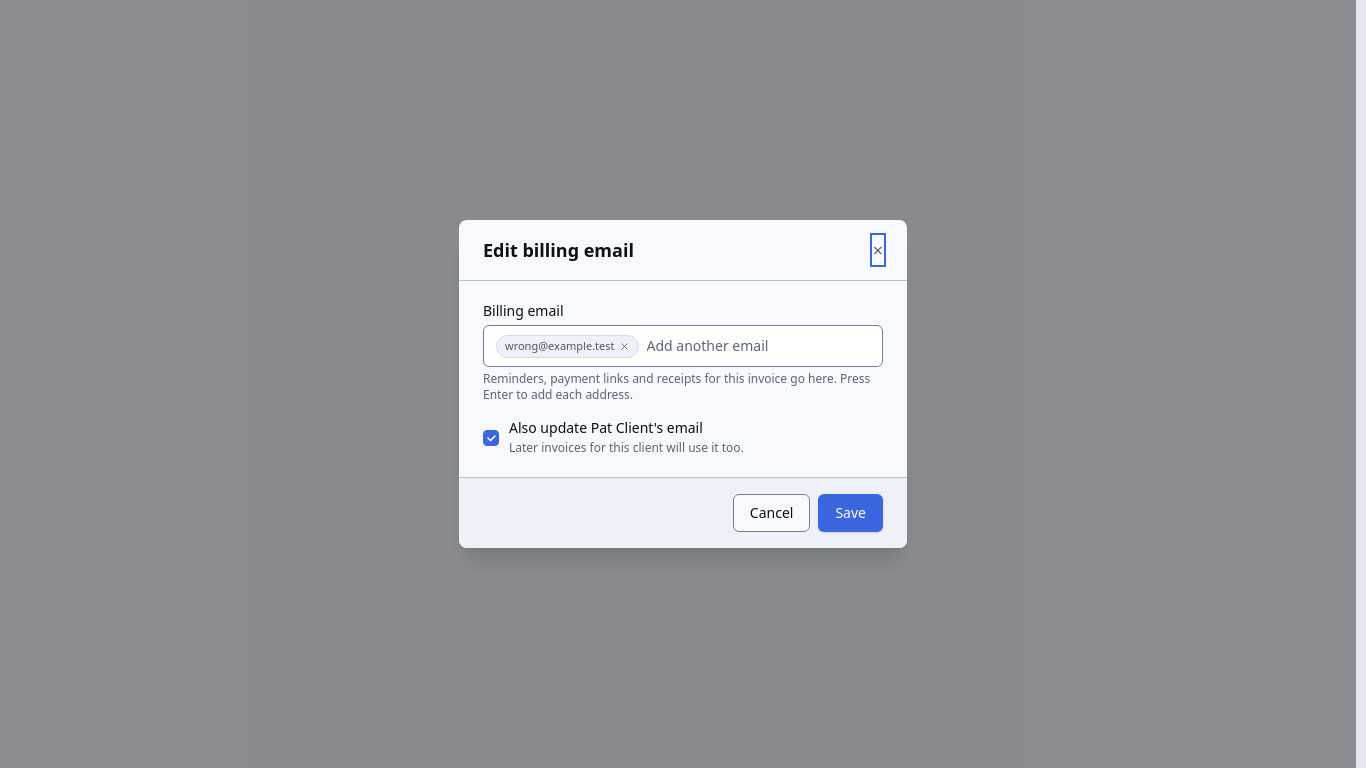
Test: will not save with every address removed
Click the button named "Remove wrong@example.test": (624, 346) [618,341,630,352]
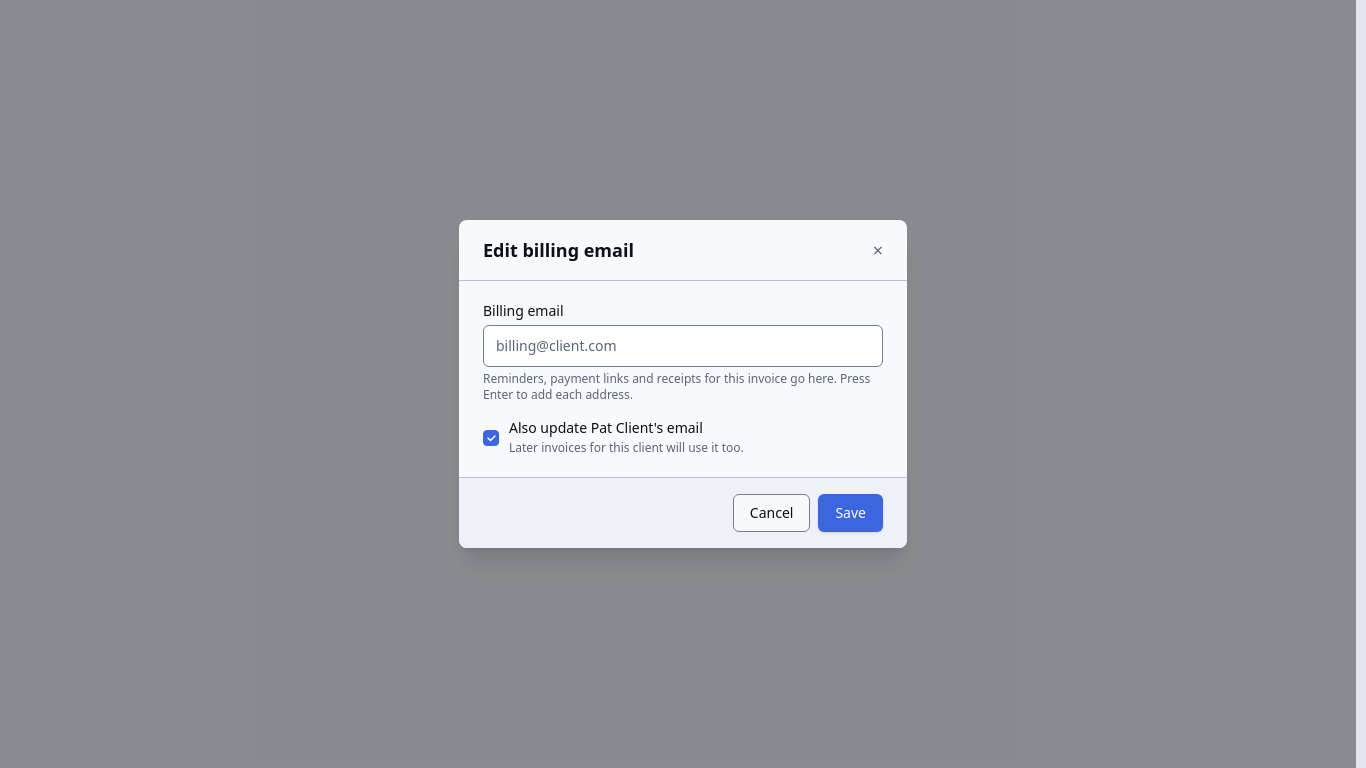
Click the button "Save": (851, 513) [818,494,883,532]
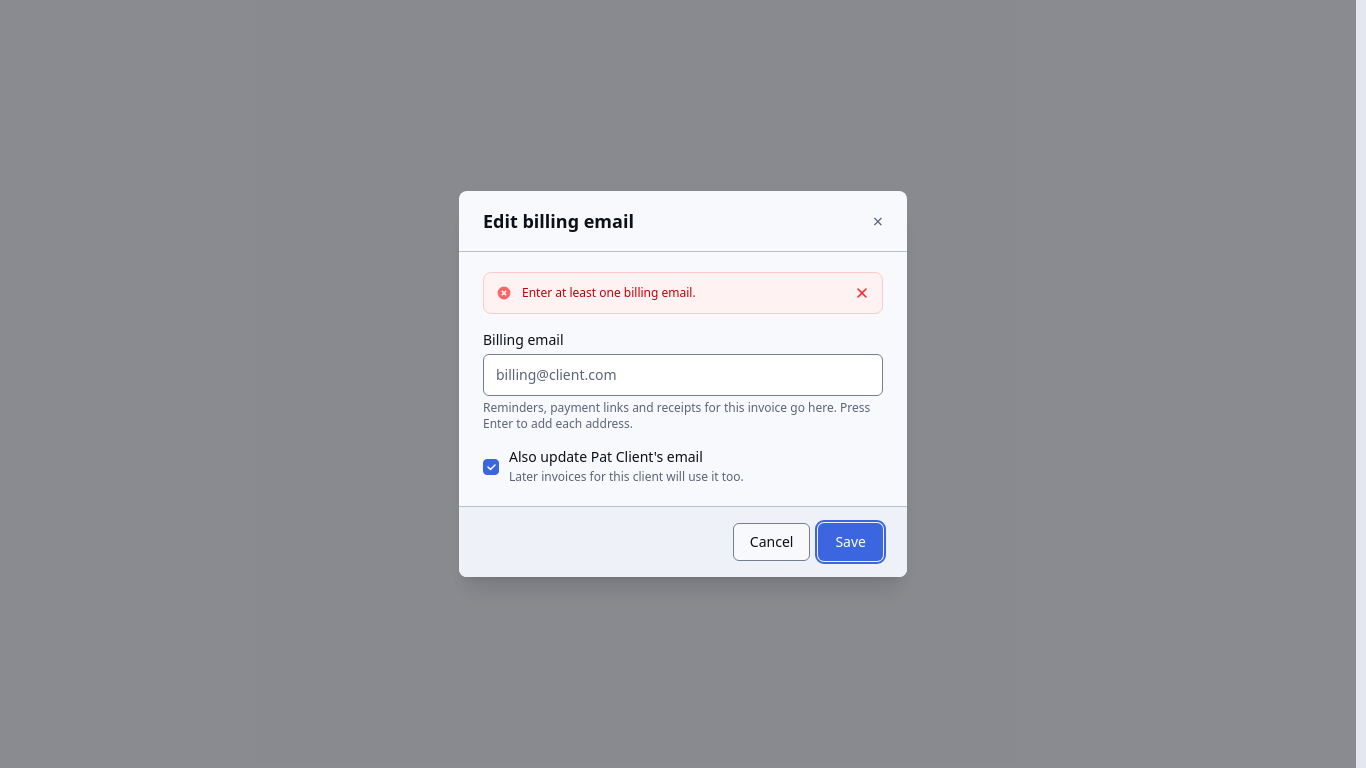
Expected: the text "Enter at least one billing email." is shown, [522,284,696,301]
